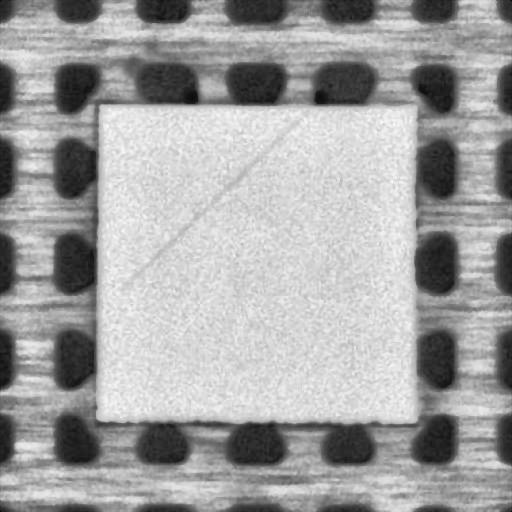DIE_CRACK: (119, 111, 305, 290)
